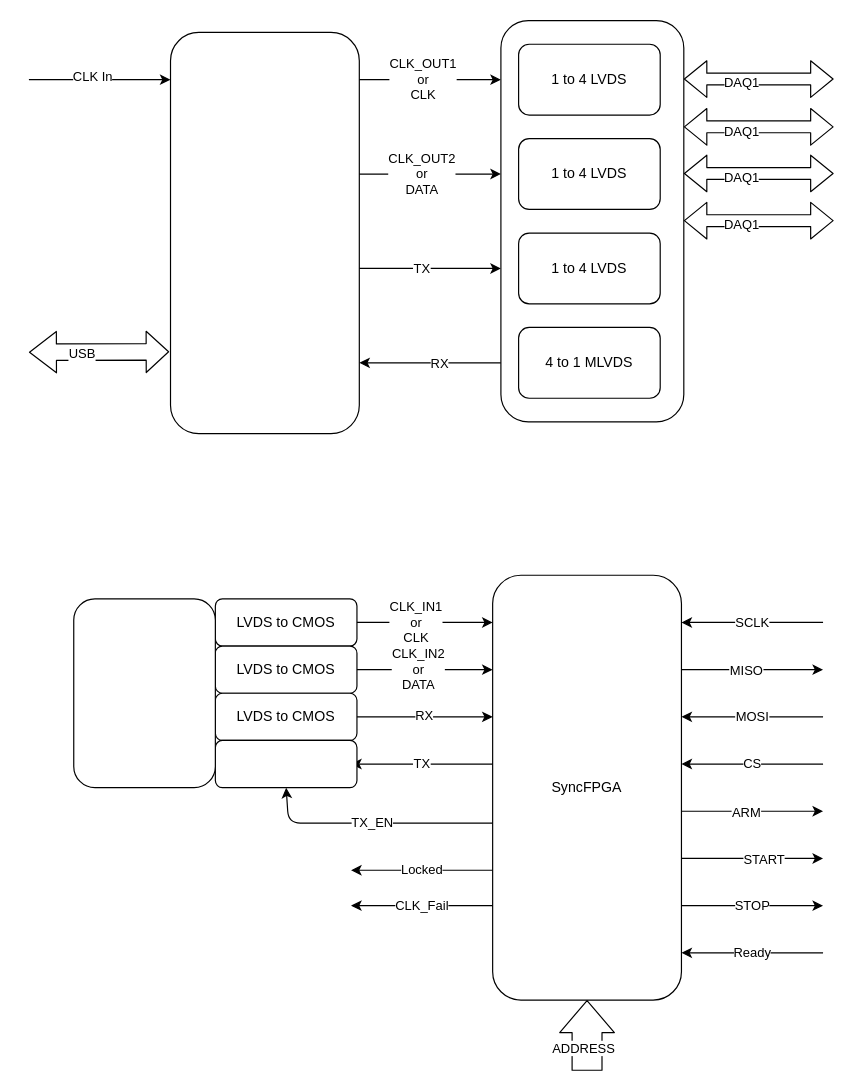
Some shapes in this 854 by 1092 pixel diagram are drawn without their labels. Here are the shapes that lost their labels. From the top down, the box of each, then its label:
(169, 31, 359, 434): Master MCU
(73, 598, 215, 788): RJ45
(214, 739, 357, 788): CMOS to MLVDS
